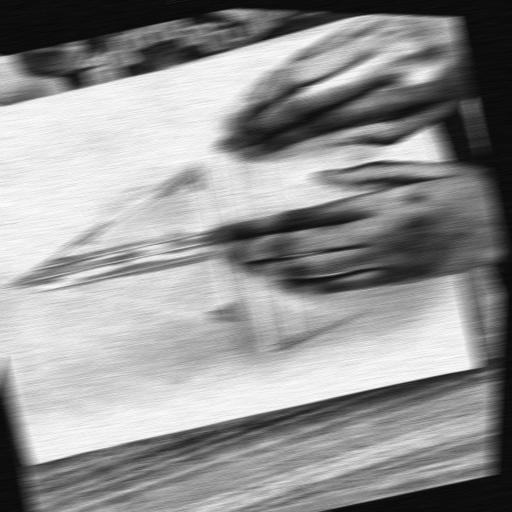boat: (0, 86, 396, 412)
bottom_left: (380, 17, 401, 28)
bottom_right: (468, 361, 487, 371)
top_right: (24, 460, 42, 468)
